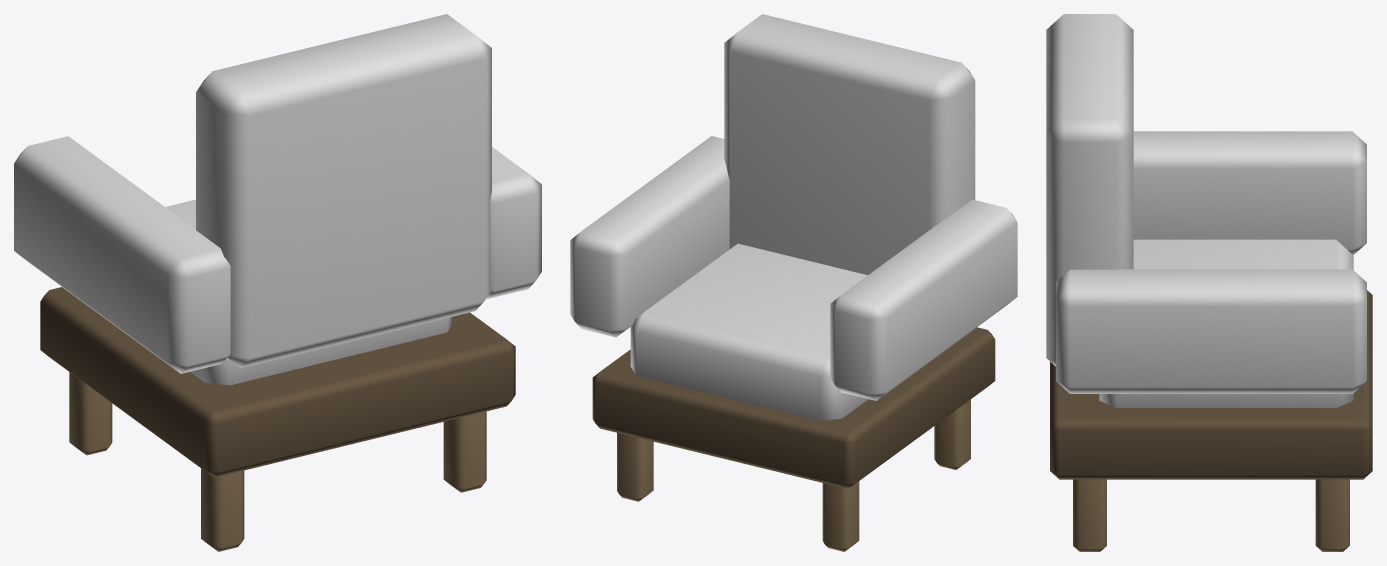
Rendered from Armchair_Upholstery62.fbx.
3 views of the same model, side by side, from view 1: azimuth 30°, elevation 25°; view 2: azimuth 150°, elevation 25°; view 3: azimuth 270°, elevation 25° (orthographic). The views are drawn at different scales.
Parts seen in each view (by area): view 1: Armchair_Upholstery62; view 2: Armchair_Upholstery62; view 3: Armchair_Upholstery62.
Boxes of the visible parts, left/top/right/bottom form: Armchair_Upholstery62: left=14, top=14, right=541, bottom=551; Armchair_Upholstery62: left=570, top=14, right=1017, bottom=551; Armchair_Upholstery62: left=1046, top=14, right=1372, bottom=551.
Bounding box in the file's own units: 105 × 124 × 86.
